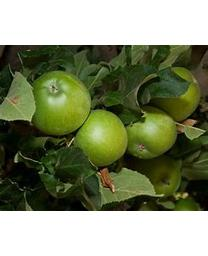apple: (31, 70, 91, 135), (74, 110, 128, 168), (126, 105, 176, 160), (152, 67, 200, 121)
